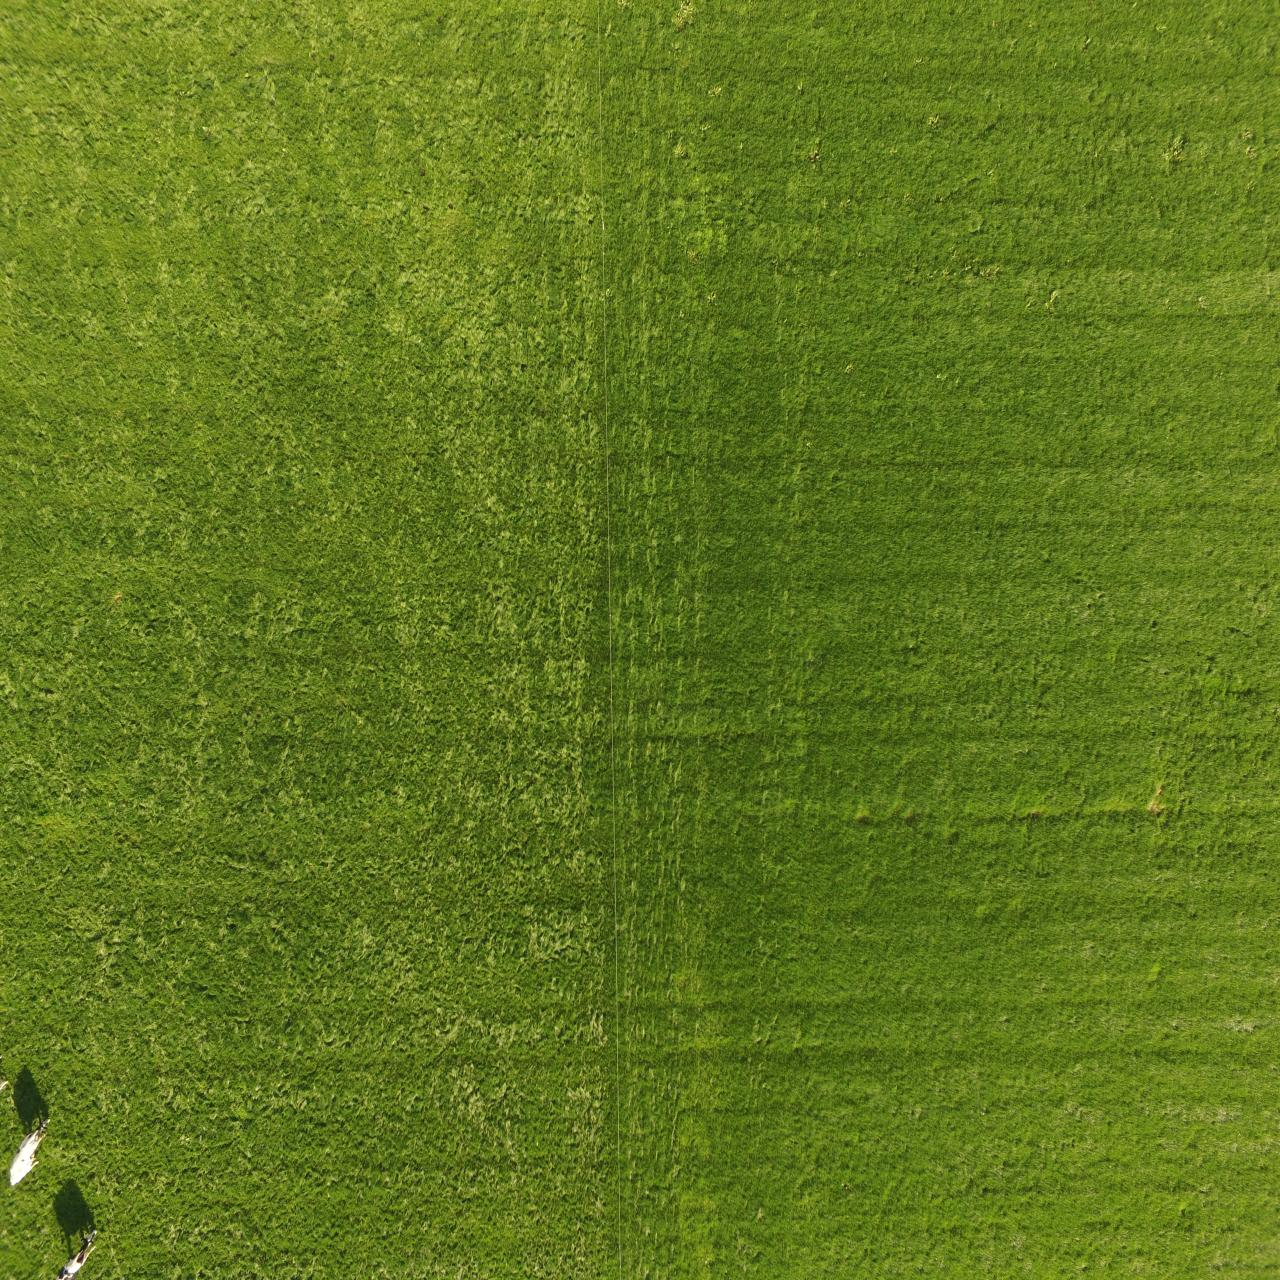cow: (4, 1111, 56, 1193), (55, 1223, 110, 1280)
